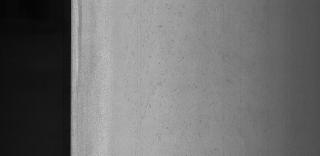silk spot: (119, 0, 219, 126)
